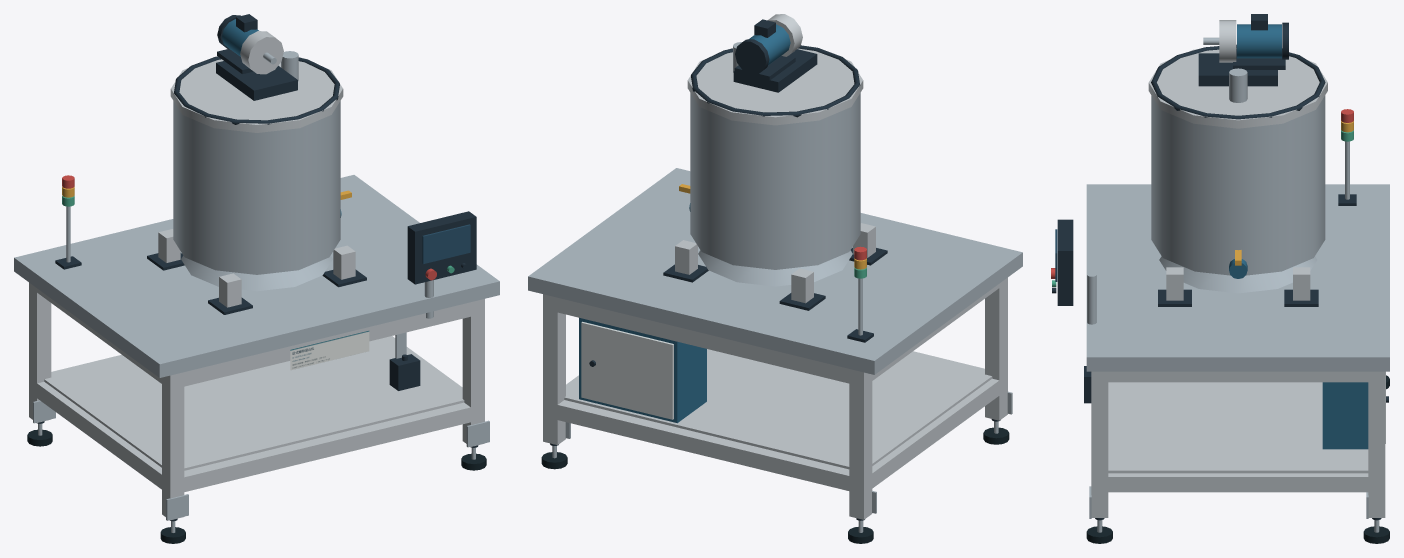
Rendered from ribbon-blender-cell.glb.
3 views of the same model, side by side, from view 1: azimuth 30°, elevation 25°; view 2: azimuth 150°, elevation 25°; view 3: azimuth 270°, elevation 25° (orthographic). The views are drawn at different scales.
Parts seen in each view (by area): view 1: ClosedMachineBed_28, LowerShelf_29, VesselBody_56, VesselLid_58, SlottedExtrusion_22, SlottedExtrusion_23, SlottedExtrusion_8, SlottedExtrusion_24, ConsoleBack_34, SlottedExtrusion_18, SlottedExtrusion_3, LowerDishedEnd_57 (+11 smaller); view 2: ClosedMachineBed_28, VesselBody_56, LowerShelf_29, VesselLid_58, BackDoor_31, SlottedExtrusion_20, SlottedExtrusion_21, SlottedExtrusion_3, Cabinet_30, SlottedExtrusion_13, SlottedExtrusion_24, SlottedExtrusion_8 (+10 smaller); view 3: ClosedMachineBed_28, VesselBody_56, LowerShelf_29, VesselLid_58, SlottedExtrusion_26, SlottedExtrusion_27, Cabinet_30, SlottedExtrusion_18, SlottedExtrusion_13, LowerDishedEnd_57, LidGasket_59, AgitatorBridge_75 (+10 smaller).
Part boxes in pixels (box(x1,y1,x2,y2)): ClosedMachineBed_28: box(14, 175, 499, 377); LowerShelf_29: box(44, 337, 464, 470); VesselBody_56: box(173, 101, 340, 274); VesselLid_58: box(170, 57, 343, 132); SlottedExtrusion_22: box(184, 402, 477, 491); SlottedExtrusion_23: box(177, 300, 477, 387); SlottedExtrusion_8: box(162, 372, 184, 520); SlottedExtrusion_24: box(33, 382, 161, 489); ConsoleBack_34: box(407, 211, 476, 284); SlottedExtrusion_18: box(462, 299, 484, 446); SlottedExtrusion_3: box(29, 282, 51, 422); LowerDishedEnd_57: box(181, 255, 332, 291); ClosedMachineBed_28: box(528, 168, 1022, 374); VesselBody_56: box(690, 93, 860, 269); LowerShelf_29: box(564, 349, 992, 469); VesselLid_58: box(687, 48, 863, 125); BackDoor_31: box(581, 321, 673, 419); SlottedExtrusion_20: box(557, 400, 849, 490); SlottedExtrusion_21: box(550, 296, 855, 383); SlottedExtrusion_3: box(849, 369, 872, 519); Cabinet_30: box(579, 317, 706, 423); SlottedExtrusion_13: box(543, 294, 565, 444); SlottedExtrusion_24: box(868, 378, 999, 491); SlottedExtrusion_8: box(985, 277, 1007, 420); ClosedMachineBed_28: box(1086, 184, 1389, 371); VesselBody_56: box(1151, 95, 1325, 275); LowerShelf_29: box(1108, 382, 1368, 473); VesselLid_58: box(1148, 49, 1327, 128); SlottedExtrusion_26: box(1100, 473, 1376, 492); SlottedExtrusion_27: box(1099, 371, 1376, 382); Cabinet_30: box(1322, 382, 1368, 449); SlottedExtrusion_18: box(1091, 371, 1108, 517); SlottedExtrusion_13: box(1368, 371, 1385, 517); LowerDishedEnd_57: box(1159, 256, 1316, 293); LidGasket_59: box(1151, 44, 1325, 119); AgitatorBridge_75: box(1198, 53, 1277, 86).
Bounding box in the file's own units: 1.55 × 1.86 × 1.29.
Materials: 11 (1 with a texture image).
